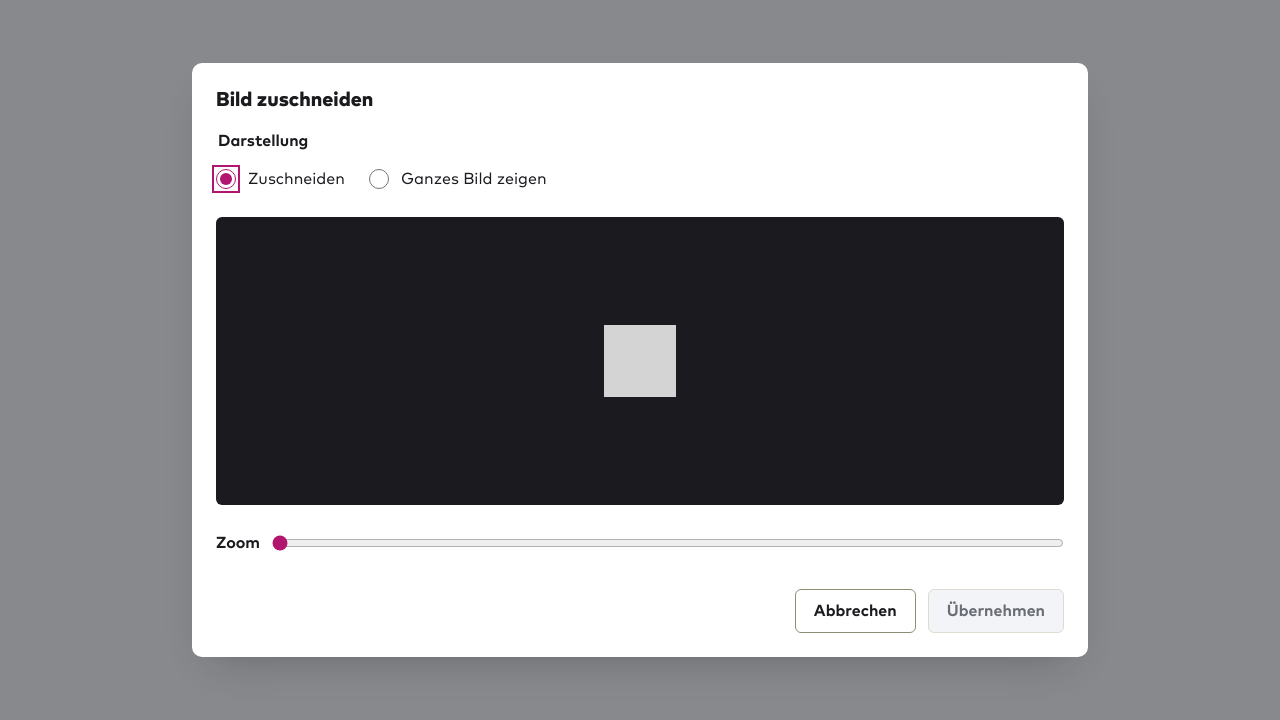
Scenario: CropDialog › Übernehmen ist gesperrt, bis ein Ausschnitt vorliegt
Check: the button "Übernehmen" is disabled, box [928, 589, 1064, 633]
Click the radio button labelled "Ganzes Bild zeigen".
click(379, 179)  # box [369, 169, 389, 189]
(page scrolled)
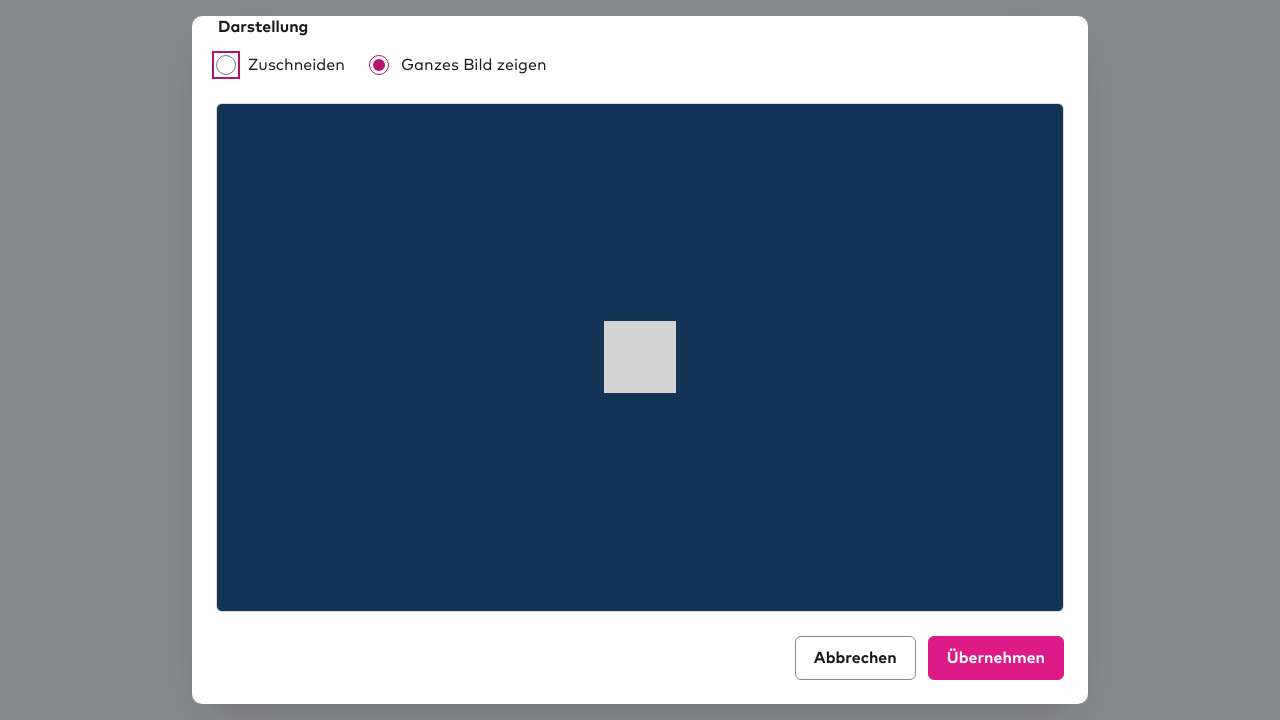
Check: the button "Übernehmen" is enabled, box [928, 636, 1064, 680]
